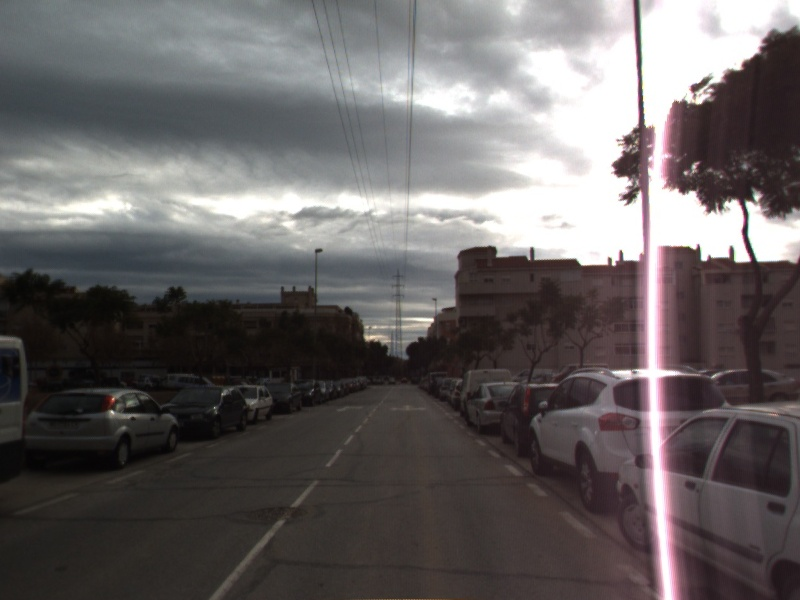STRAIGHT_LEFT_RIGHT: (387, 403, 429, 414)
